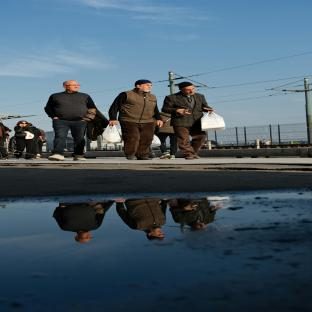Human: (109, 80, 163, 160), (45, 80, 96, 160), (162, 82, 214, 160)
